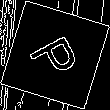P_NE: (24, 27, 86, 83)
